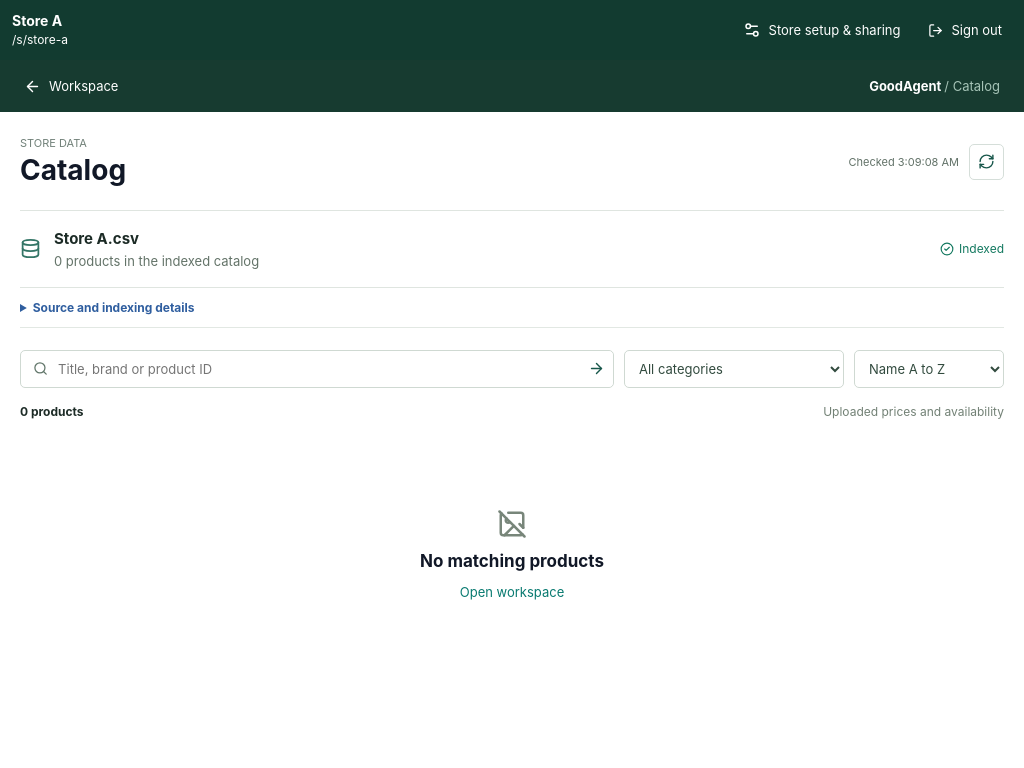
Scenario: StoreAccess request intent and explicit recovery › uses the actual direct catalog route, gates cached data, and resets filters on recovery
The image size is (1024, 768).
Check: the text "Store A.csv" is shown, box x1=54 y1=229 x2=139 y2=248
Type "A-only search" into the field named "Find catalog products" at (314, 369), box x1=56 y1=351 x2=572 y2=387
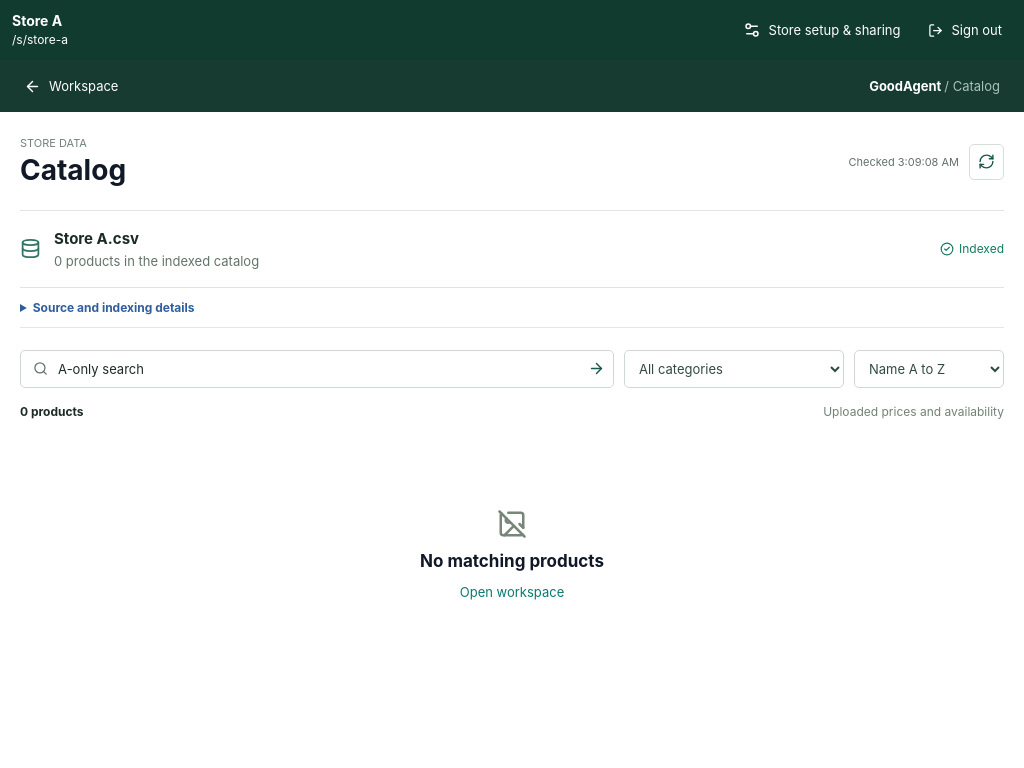
Click the button named "Refresh catalog" at (986, 162), box x1=969 y1=144 x2=1004 y2=180
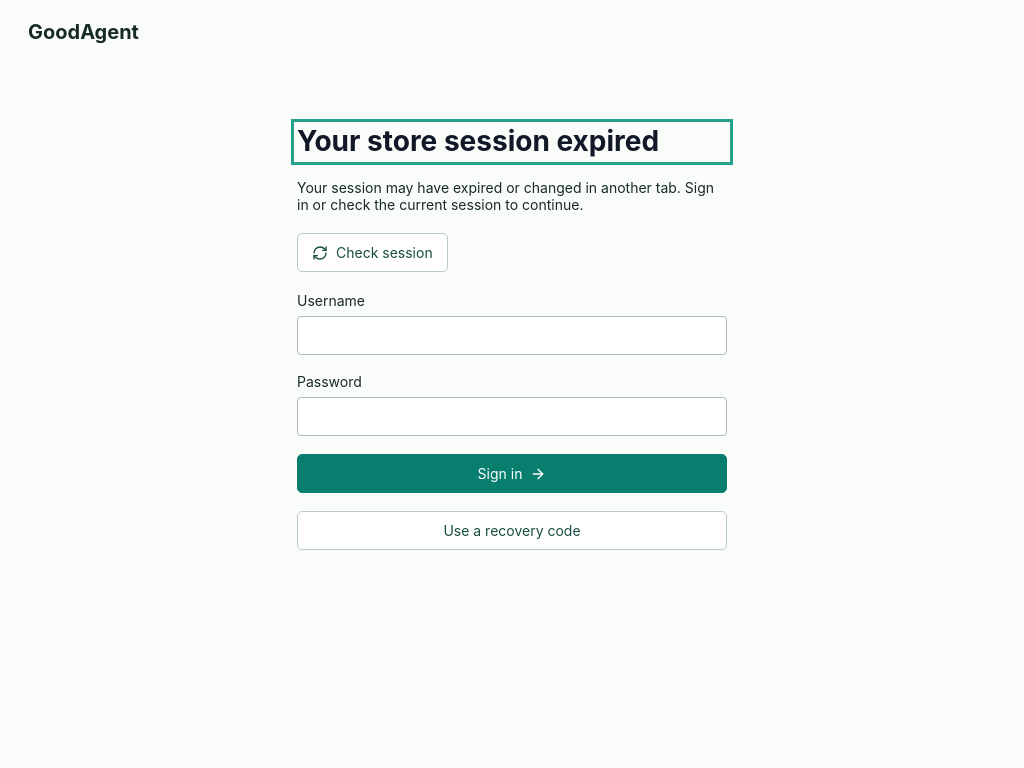
Check: the button "Check session" is enabled
Check: the text "Store A.csv" is gone
Click the button "Check session" at (372, 252), box x1=297 y1=233 x2=448 y2=272
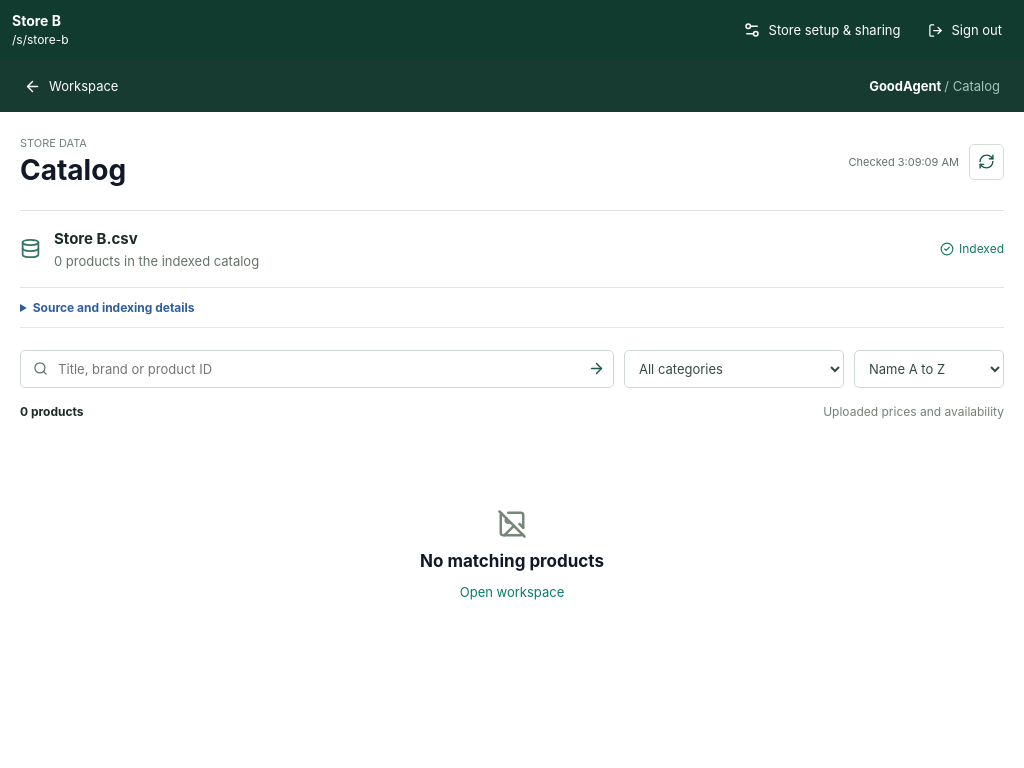
Check: the text "Store B.csv" is shown, box x1=54 y1=229 x2=138 y2=248
Check: the field named "Find catalog products" is empty, box x1=56 y1=351 x2=572 y2=387
